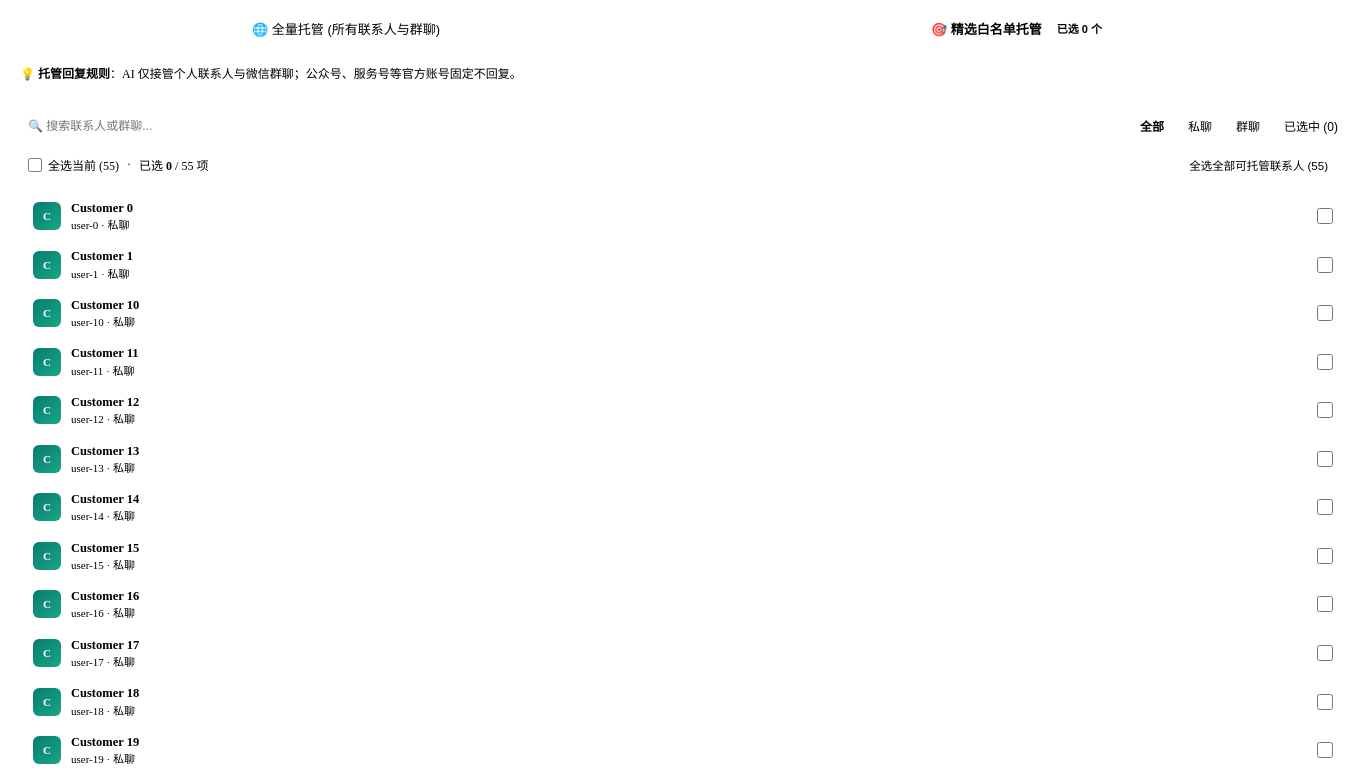
OmniMind managed scope picker › debounces search for 200ms and bounds large result rendering
Type "Unique target" into the search field named "搜索姓名" at (570, 126), box [18,111,1122,141]
Wait 200 ms
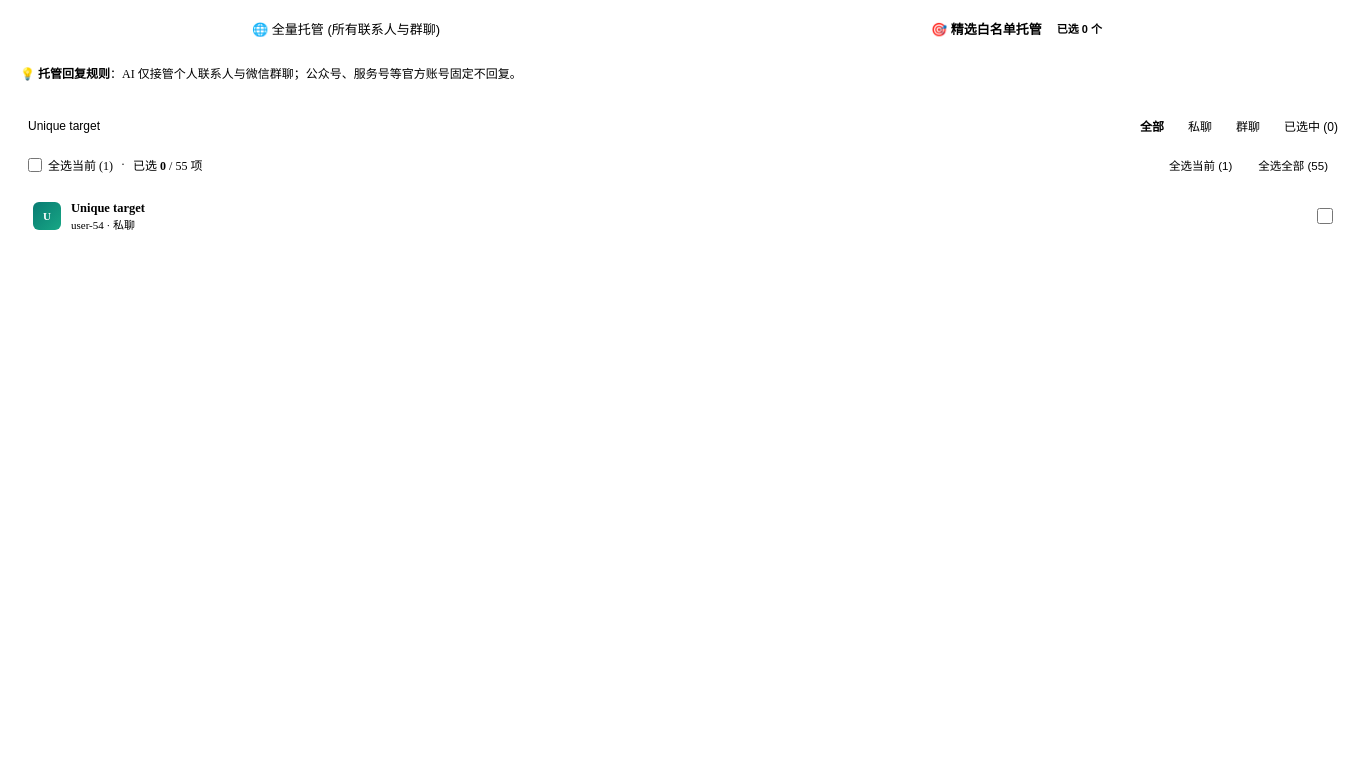
expect the text "Unique target" is shown: met, box [71,200,145,216]
